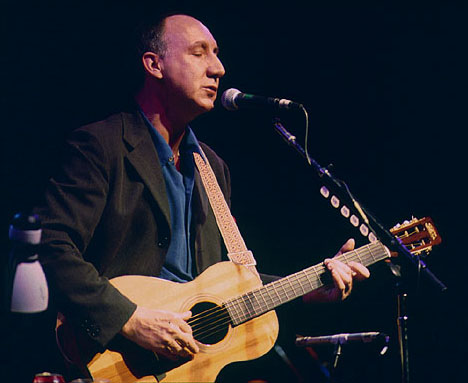guitar: (79, 214, 444, 383)
